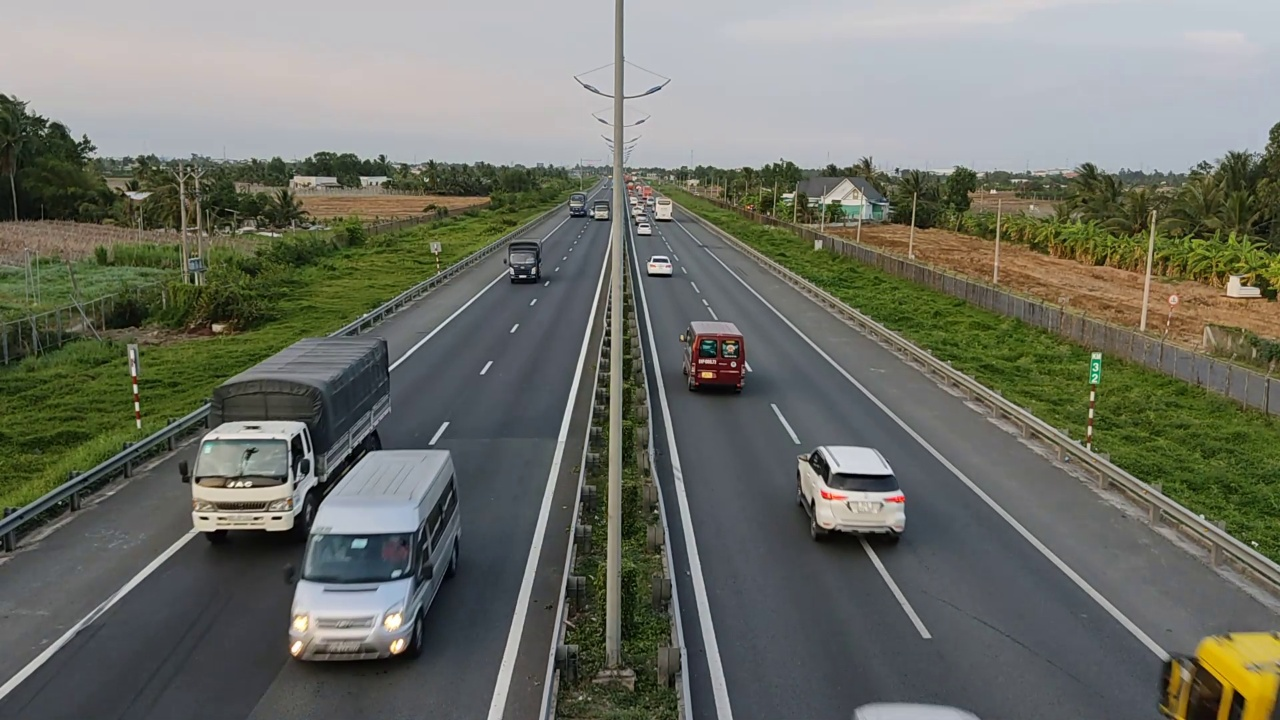car: (282, 446, 463, 665), (795, 444, 907, 541), (678, 317, 750, 397), (647, 255, 673, 277)
truck: (185, 335, 393, 539)
